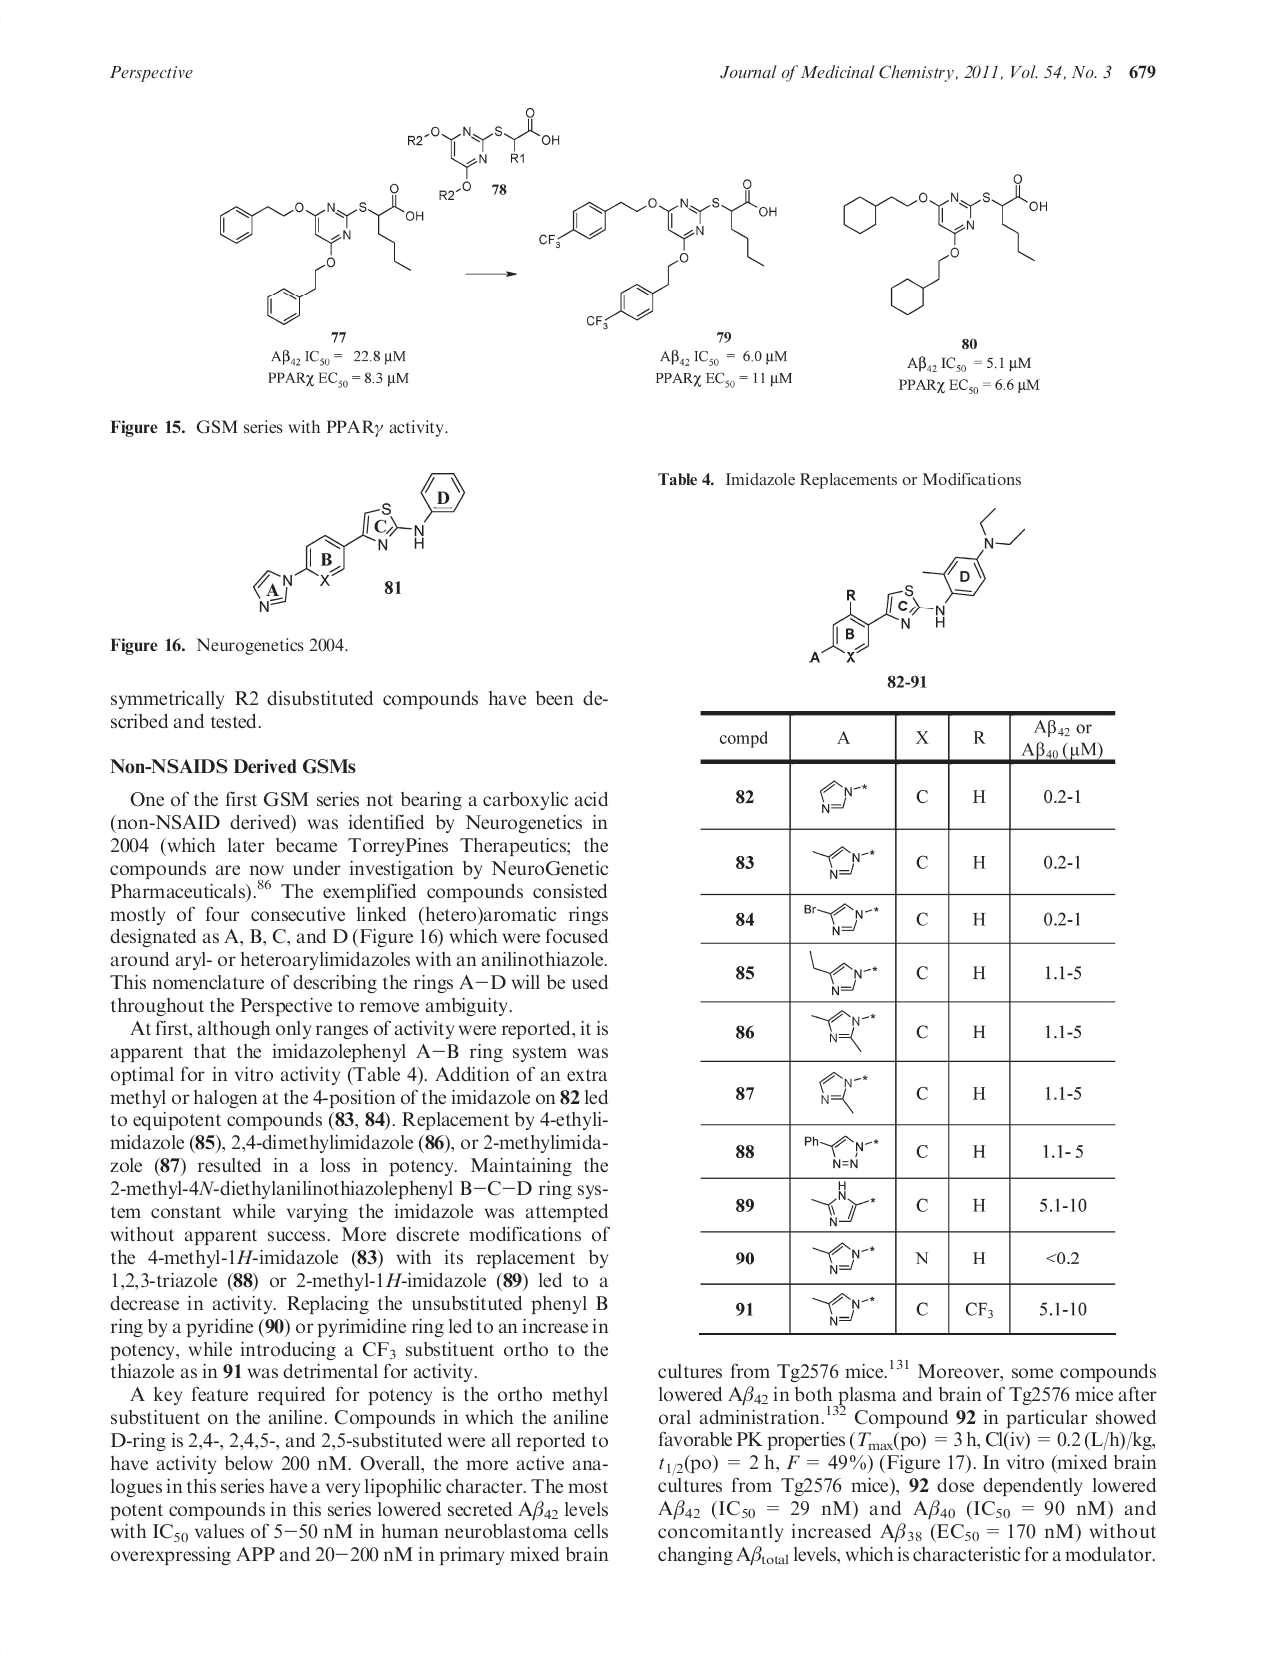exist_molecular: (535, 177, 783, 331), (805, 507, 1035, 666), (836, 170, 1053, 321), (247, 469, 469, 613), (217, 181, 434, 327), (406, 106, 564, 207), (805, 947, 879, 997), (806, 1005, 880, 1055), (809, 771, 883, 817), (810, 1180, 878, 1227), (801, 899, 882, 939), (802, 1130, 880, 1169), (810, 1289, 879, 1329), (814, 1069, 870, 1114), (811, 840, 876, 879), (810, 1239, 876, 1277)
